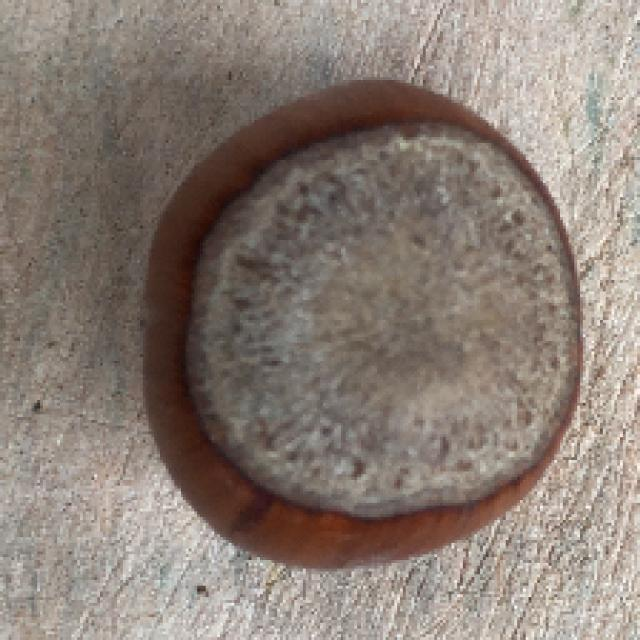qualityHazelnut: (136, 69, 586, 571)
